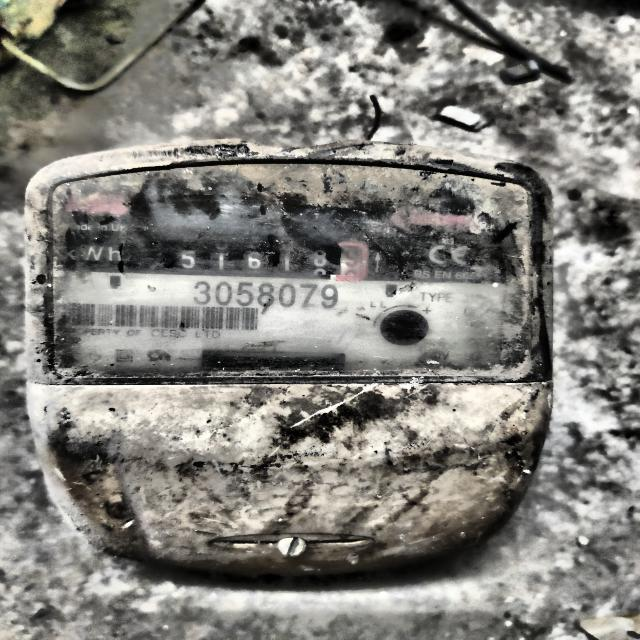Analog: (26, 132, 566, 578)
Reading: (168, 240, 363, 280)
Serial No.: (189, 283, 346, 306)
